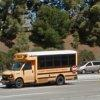buses: (2, 49, 80, 89)
